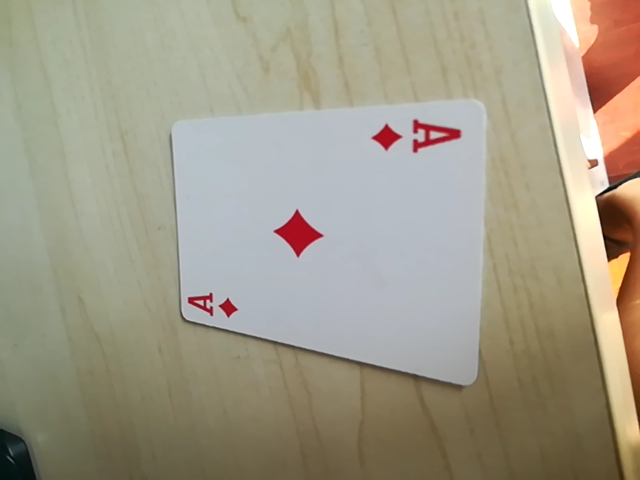fk a: (368, 112, 461, 160), (180, 285, 246, 324)
